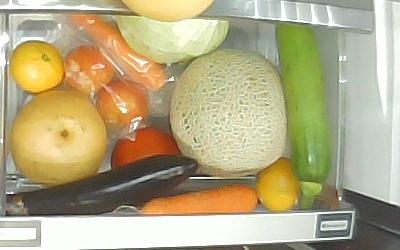cabbage: (112, 16, 231, 65)
carrot: (140, 183, 259, 215)
carrot_vinyl: (63, 14, 168, 90)
eggplant: (6, 154, 196, 216)
pear: (10, 88, 109, 187)
prune: (97, 78, 151, 132), (63, 43, 113, 94)
tangerine: (9, 40, 64, 94), (256, 156, 300, 212)
tomato: (111, 128, 181, 169)
zucchini: (169, 46, 287, 174), (275, 24, 331, 208)
